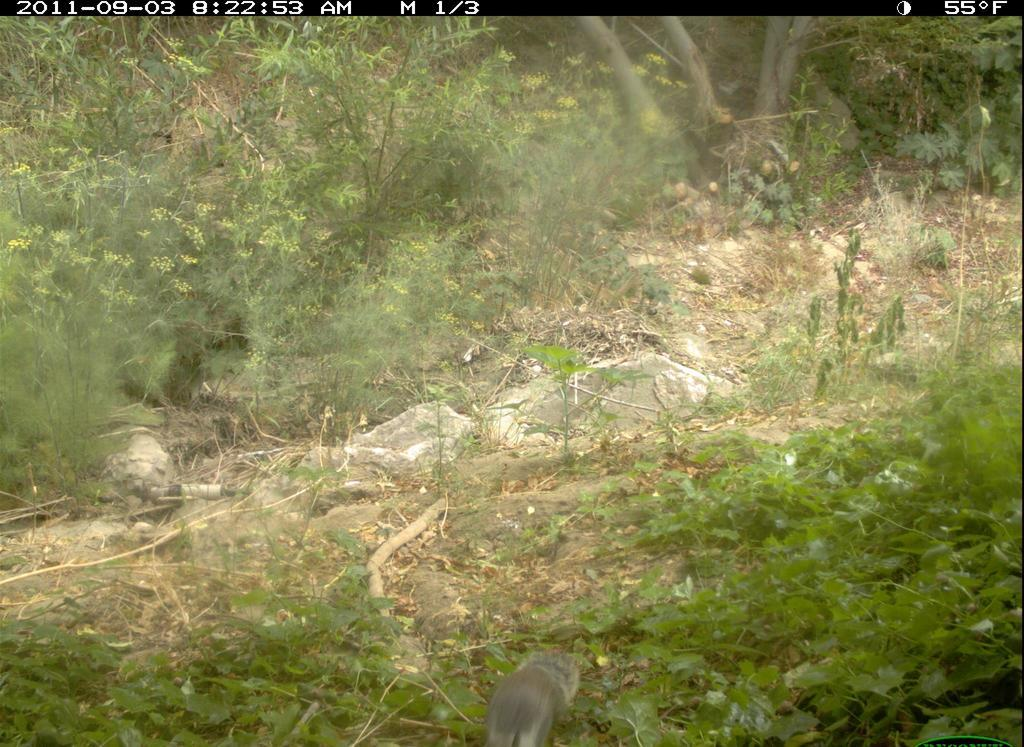squirrel: (450, 639, 601, 744)
